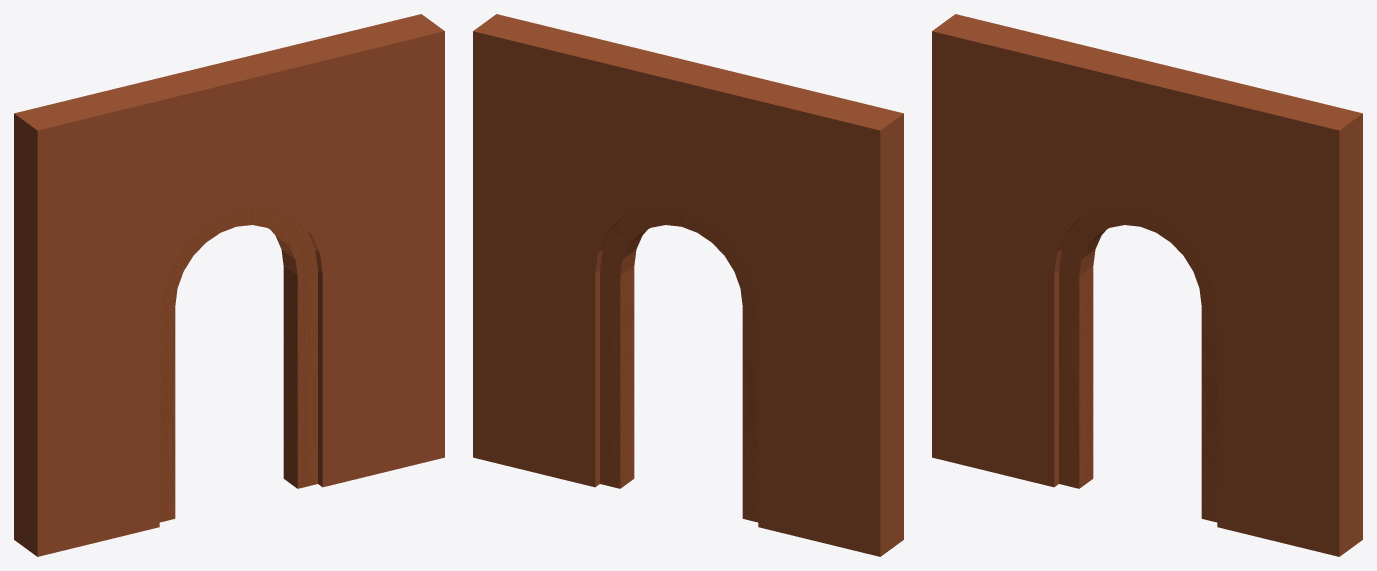
File: doorway_rounded.fbx
3 renders of one model, left to right at view 1: azimuth 30°, elevation 25°; view 2: azimuth 150°, elevation 25°; view 3: azimuth 330°, elevation 25°, orthographic.
Visible parts, largest first — view 1: Mesh1_wall_3_1 Model; view 2: Mesh1_wall_3_1 Model; view 3: Mesh1_wall_3_1 Model.
Part boxes in pixels (<box>): Mesh1_wall_3_1 Model: <box>14,14,444,556</box>; Mesh1_wall_3_1 Model: <box>473,14,903,556</box>; Mesh1_wall_3_1 Model: <box>932,14,1362,556</box>.
Bounding box in the file's own units: 1 × 1 × 0.1.
